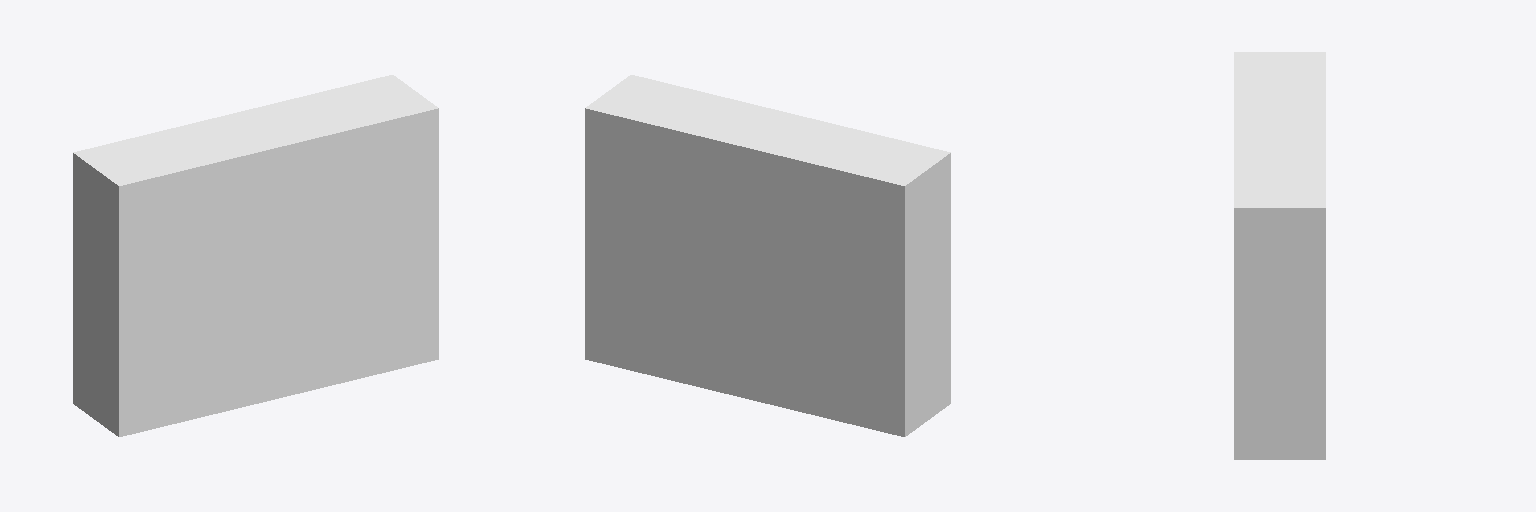
The model's file is Gun1-7 1.obj.
3 views of the same model, side by side, from view 1: azimuth 30°, elevation 25°; view 2: azimuth 150°, elevation 25°; view 3: azimuth 270°, elevation 25° (orthographic).
Visible parts, largest first — view 1: object 1; view 2: object 1; view 3: object 1.
Part boxes in pixels (left/top/right/bottom): object 1: left=73, top=75, right=438, bottom=436; object 1: left=585, top=75, right=950, bottom=436; object 1: left=1234, top=52, right=1325, bottom=459.
Bounding box in the file's own units: 1.6 × 1.2 × 0.4.